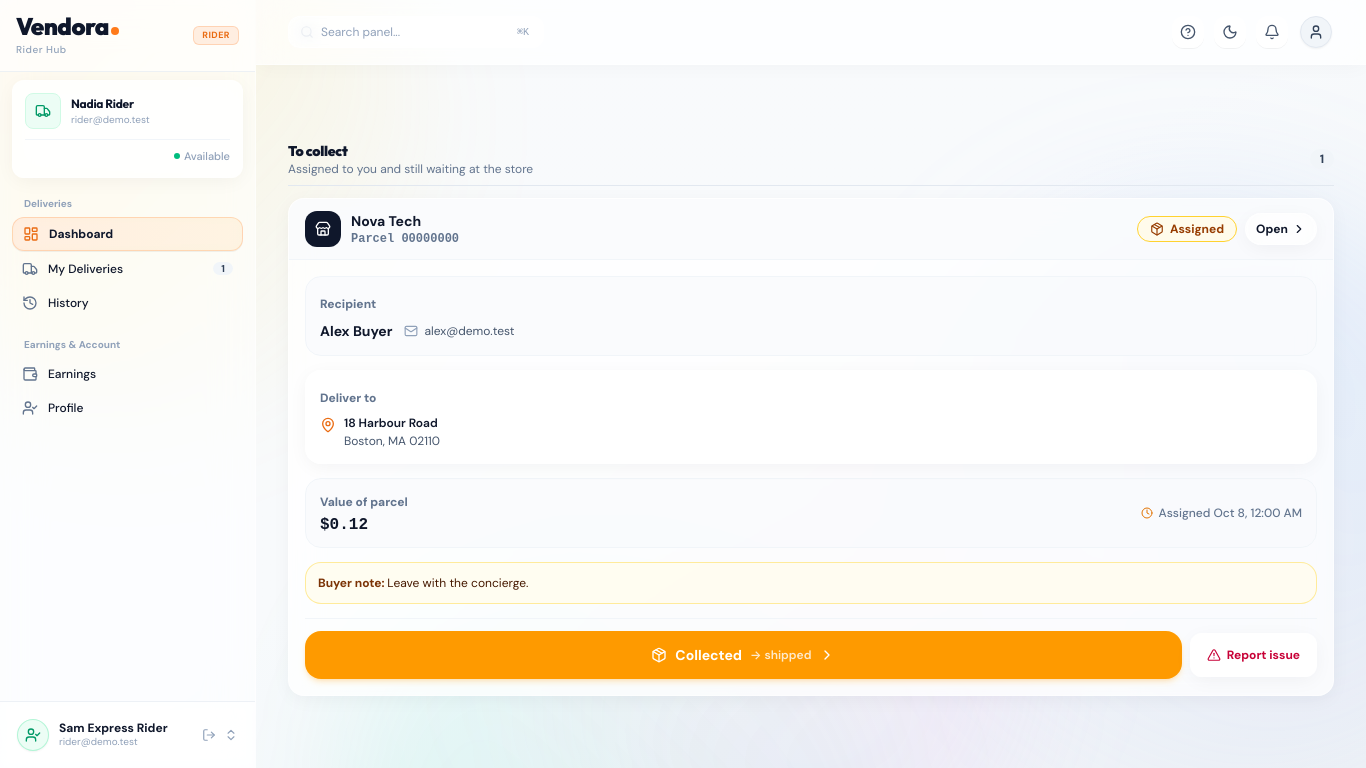
Test: RiderDashboardPage › shows the database’s refusal when a move is not allowed
(page scrolled)
Click the button with test id "btn-collect" at {"x": 743, "y": 655}, box [305,631,1182,679]
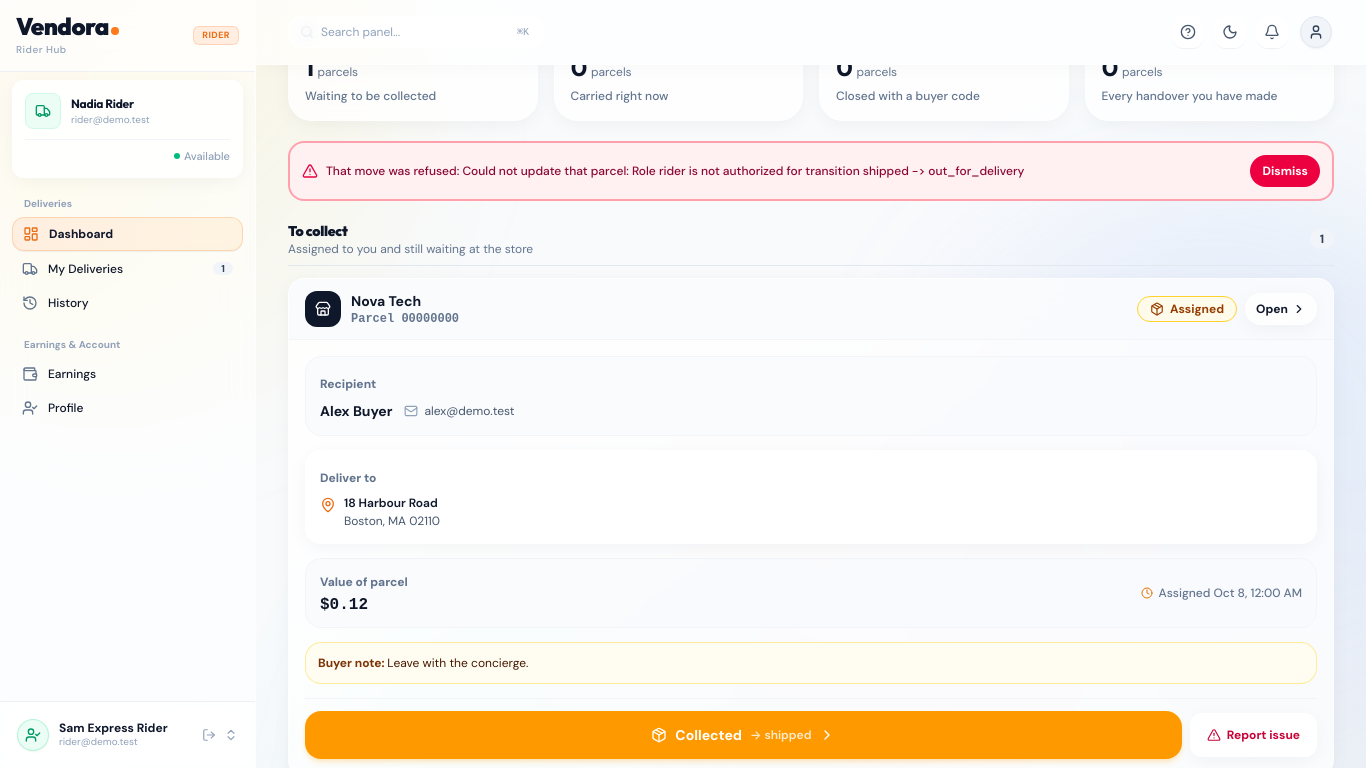
Check: the message with test id "move-error" shows "not authorized", box [462,163,1024,179]
